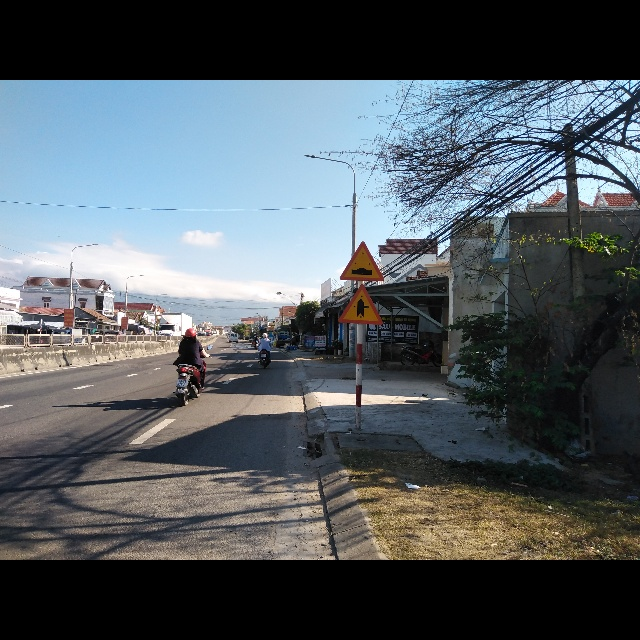Giao nhau với đường không ưu tiên: (336, 284, 382, 324)
Đường không bằng phẳng: (336, 237, 385, 280)
